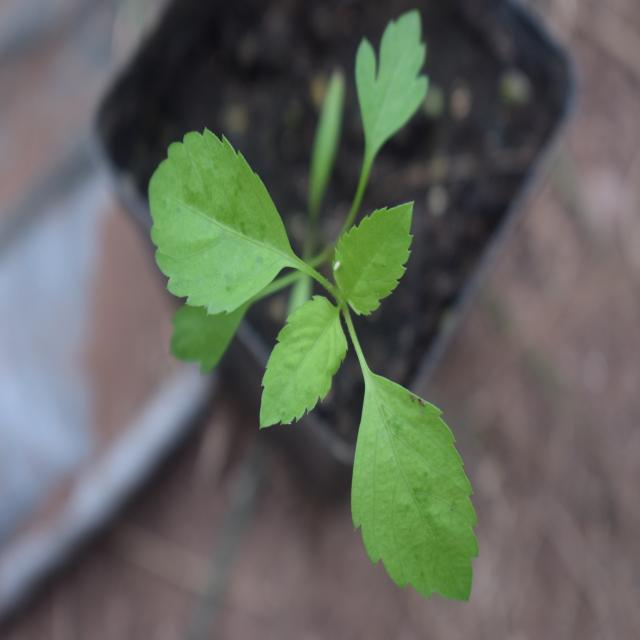Bidens pilosa: (158, 56, 486, 619)
